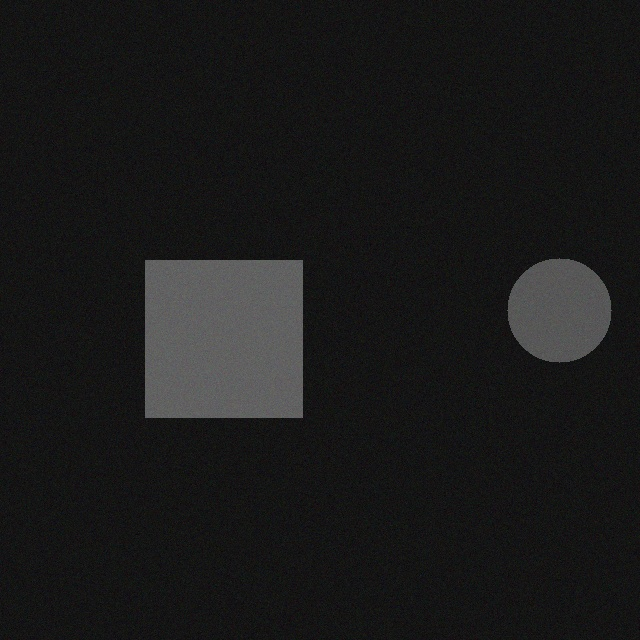circle: (503, 250, 607, 354)
square: (141, 252, 298, 409)
